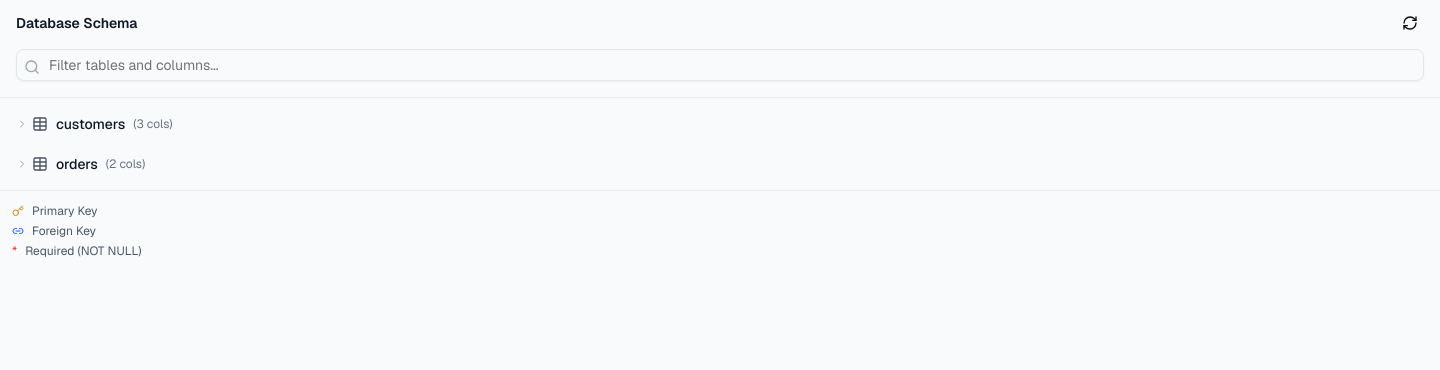
Scenario: SchemaBrowser › expands and collapses table details
The image size is (1440, 370).
Check: the text "id" is not shown
Check: the text "name" is not shown
# Click on customers table to expand
Click the text "customers" at (91,124), box [56,114,125,134]
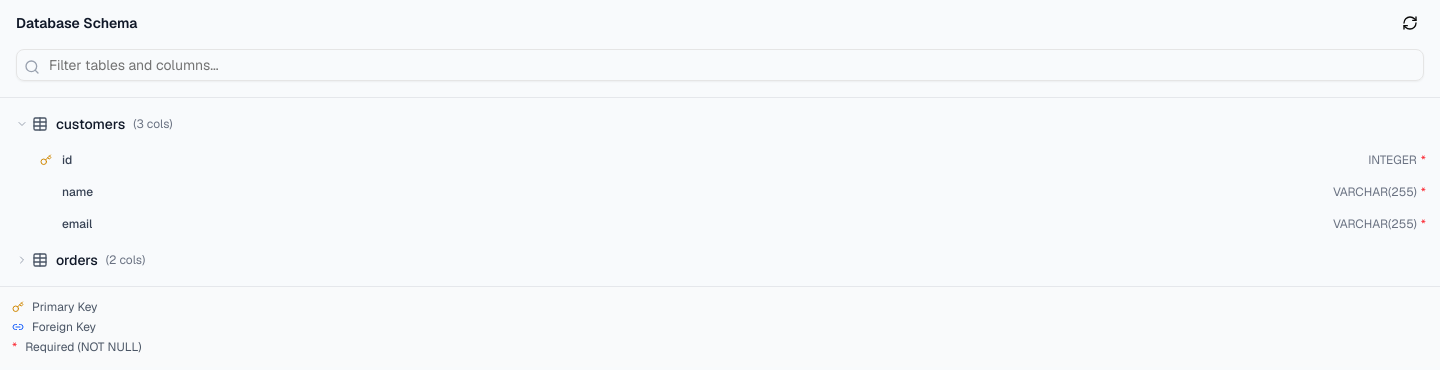
Check: the text "id" is shown, box [62,152,72,168]
Check: the text "name" is shown, box [62,184,93,200]
Check: the text "email" is shown, box [62,216,92,232]
# Click again to collapse
Click the text "customers" at (91,124), box [56,114,125,134]
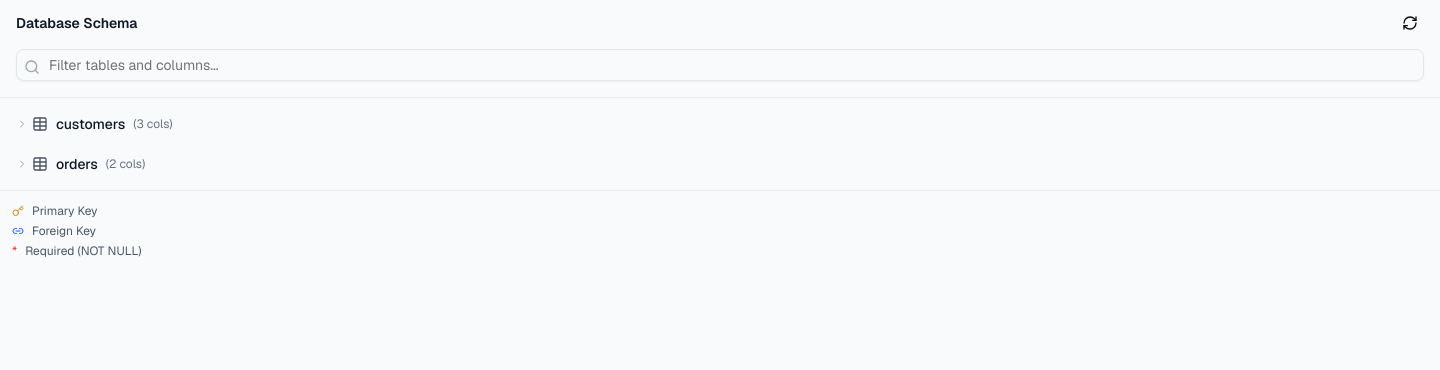
Check: the text "id" is gone
